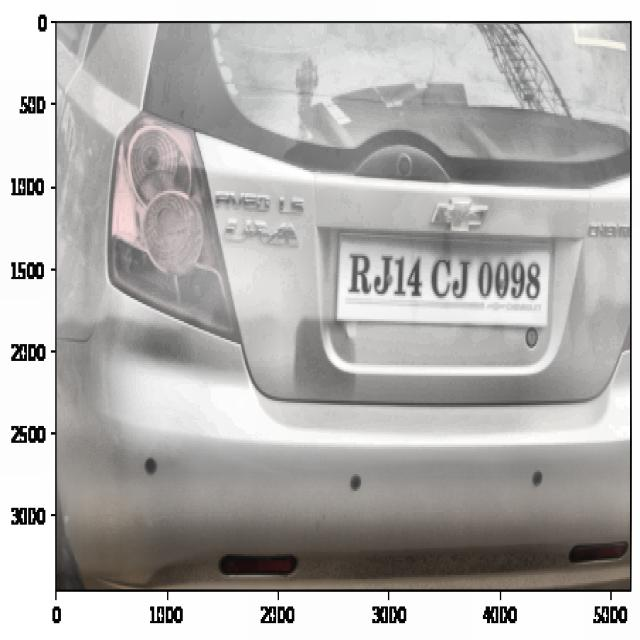license_plate: (344, 240, 546, 316)
